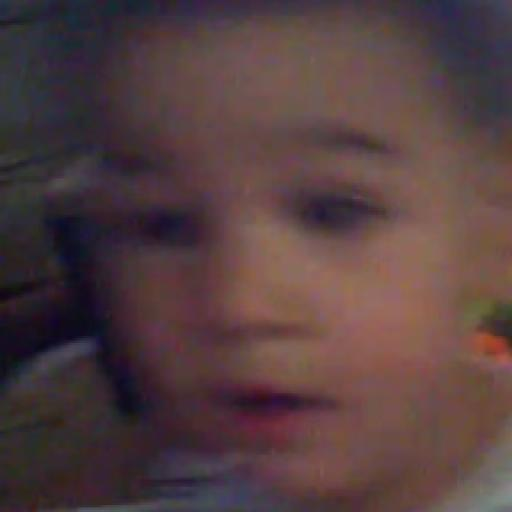Autism: (139, 35, 512, 512)
